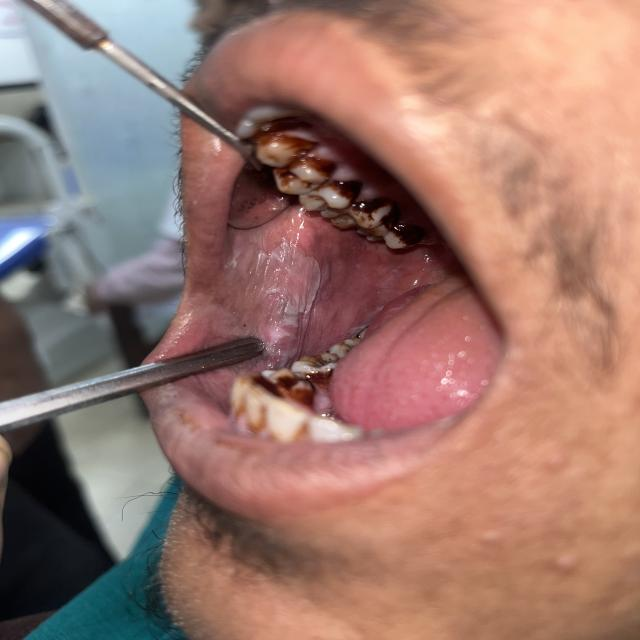leukoplakia-detection: (197, 233, 333, 370)
processing_area: (171, 209, 504, 428)
